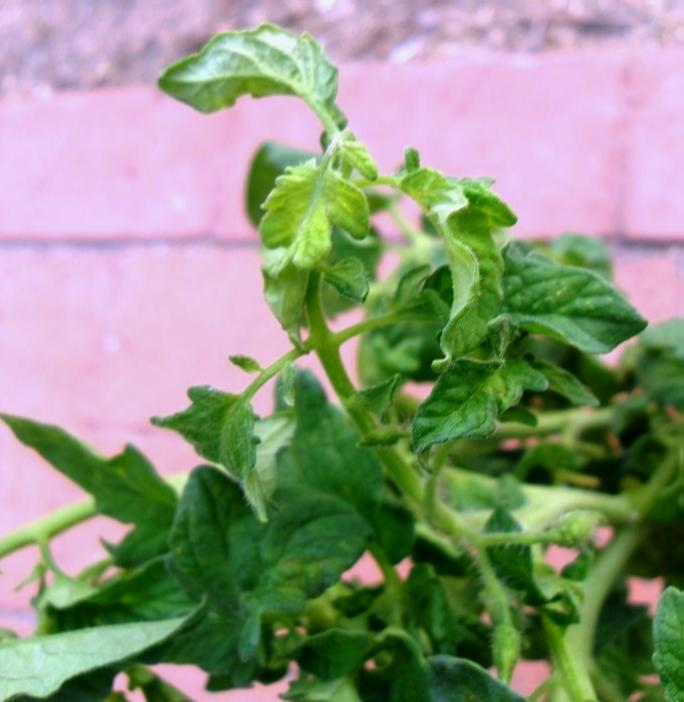Tomato leaf yellow virus: (400, 149, 530, 378), (240, 153, 376, 344), (142, 19, 367, 129), (140, 365, 281, 533), (479, 247, 655, 374)
